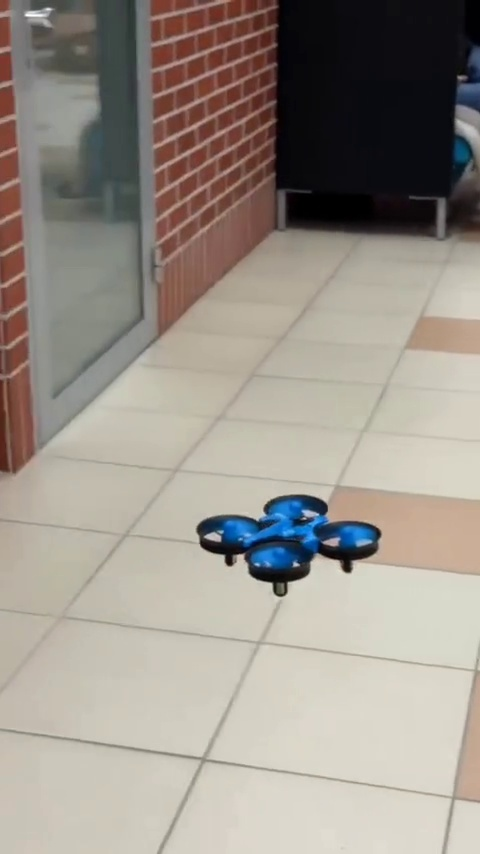drone: (203, 494, 388, 596)
